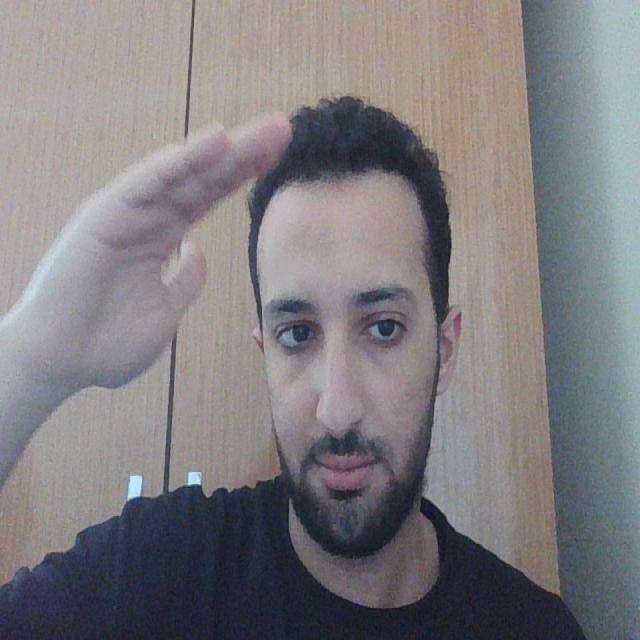Merhaba: (59, 93, 322, 471)
